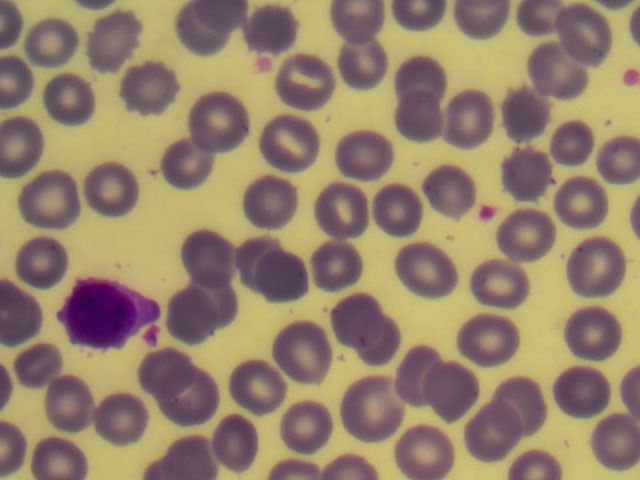Platelets: (477, 200, 505, 225), (617, 68, 640, 94), (254, 54, 278, 78)
RBC: (238, 172, 299, 229), (230, 227, 291, 284), (254, 249, 315, 306), (303, 236, 364, 293), (314, 183, 375, 240), (332, 130, 393, 187), (263, 113, 324, 170), (274, 49, 335, 106), (398, 244, 459, 301), (367, 182, 428, 239), (418, 160, 479, 217), (392, 88, 453, 145), (392, 42, 453, 99), (338, 31, 399, 88), (435, 87, 496, 144), (488, 81, 549, 138), (526, 51, 587, 108), (556, 9, 617, 66), (546, 113, 607, 170), (502, 143, 563, 200), (498, 212, 559, 269), (475, 257, 536, 314), (461, 312, 522, 369), (431, 364, 492, 421), (392, 347, 453, 404), (365, 321, 426, 378), (330, 293, 391, 350), (276, 326, 337, 383), (228, 357, 289, 414), (209, 414, 270, 471), (287, 398, 348, 455), (340, 380, 401, 437), (395, 423, 456, 480), (459, 403, 520, 460), (497, 373, 558, 430), (551, 365, 612, 422), (565, 300, 626, 357), (568, 238, 629, 295), (552, 172, 613, 229), (239, 1, 300, 57), (175, 1, 236, 57), (328, 1, 389, 57), (24, 16, 80, 67), (39, 74, 95, 125), (1, 119, 57, 170), (22, 172, 78, 223), (81, 162, 137, 213), (15, 231, 71, 282), (11, 333, 67, 384), (40, 382, 96, 433), (83, 397, 139, 448), (30, 429, 86, 480), (136, 344, 192, 395), (169, 377, 225, 428), (161, 295, 217, 346), (187, 275, 243, 326), (183, 229, 239, 280), (159, 138, 215, 189), (197, 97, 253, 148), (124, 60, 180, 111), (91, 14, 147, 65), (592, 411, 640, 469), (450, 1, 516, 42)
WBC: (57, 268, 160, 348)
